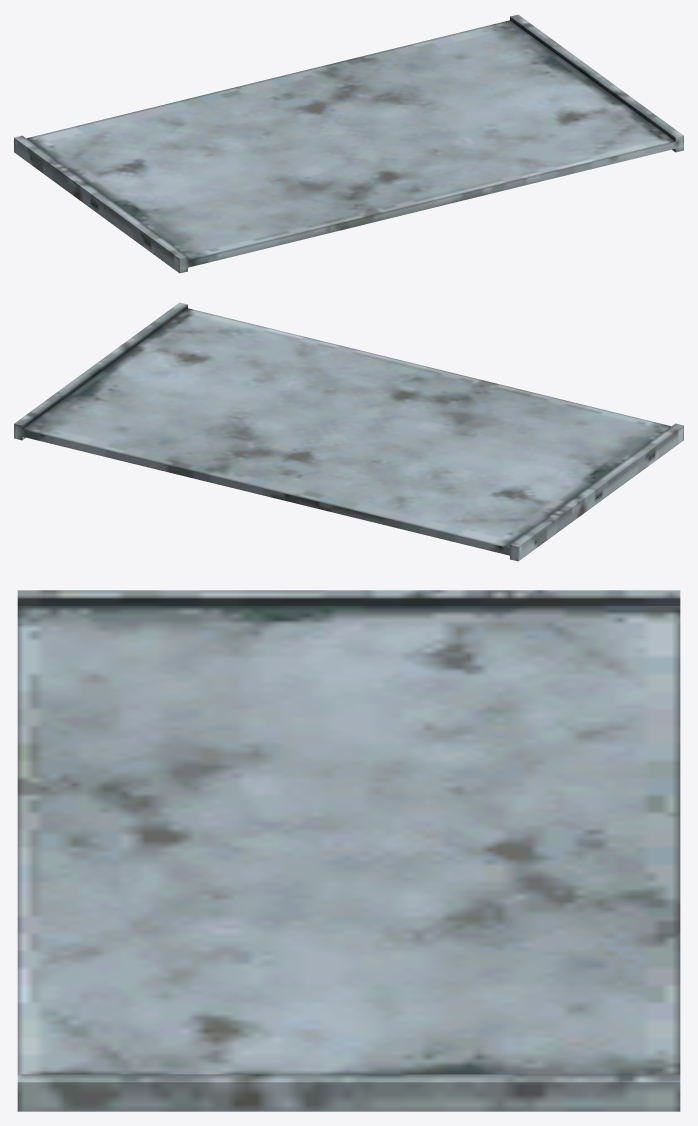
Rendered from glass_02.DAE.
3 renders of one model, top to bottom at view 1: azimuth 30°, elevation 25°; view 2: azimuth 150°, elevation 25°; view 3: azimuth 270°, elevation 25°, orthographic. The views are drawn at different scales.
Parts seen in each view (by area): view 1: glass_02; view 2: glass_02; view 3: glass_02.
Boxes of the visible parts, x1,y1,x2,y2 form: glass_02: (14, 14, 683, 273); glass_02: (14, 302, 683, 561); glass_02: (17, 590, 680, 1111).
Bounding box in the file's own units: 4.25 × 2.42 × 0.1182.
